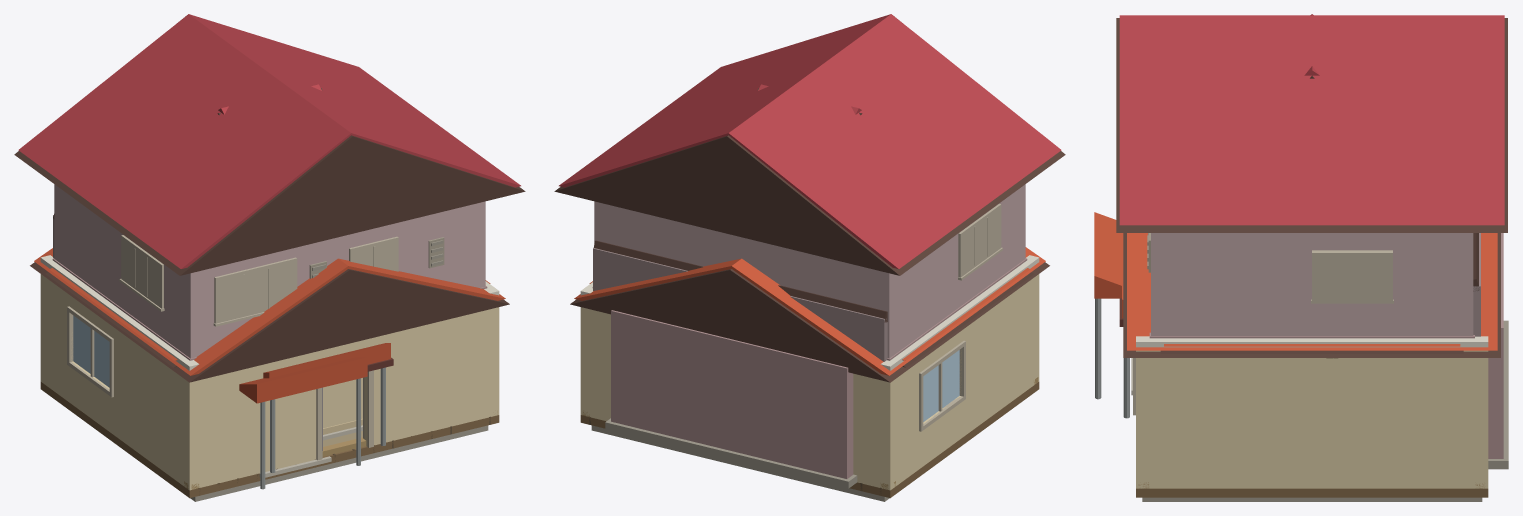
File: buildings.glb
The picture shows the model from 3 angles, left to right: view 1: azimuth 30°, elevation 25°; view 2: azimuth 150°, elevation 25°; view 3: azimuth 270°, elevation 25°; orthographic projection. The views are drawn at different scales.
Visible parts, largest first — view 1: HouseLarge, RoomInterior, HouseOpen, HouseSmall, PorchHouse; view 2: HouseLarge, PorchHouse, RoomInterior, HouseOpen, HouseSolar; view 3: HouseLarge, RoomInterior, HouseOpen, PorchHouse, HouseSolar, HouseSmall.
Boxes of the visible parts, <box> form: HouseLarge: <box>14,14,525,360</box>; RoomInterior: <box>40,255,499,498</box>; HouseOpen: <box>30,248,509,501</box>; HouseSmall: <box>263,343,393,472</box>; PorchHouse: <box>45,268,490,367</box>; HouseLarge: <box>554,14,1065,360</box>; PorchHouse: <box>589,268,1034,488</box>; RoomInterior: <box>580,255,1039,498</box>; HouseOpen: <box>570,247,1049,501</box>; HouseSolar: <box>593,240,887,361</box>; HouseLarge: <box>1116,14,1507,338</box>; RoomInterior: <box>1133,336,1488,497</box>; HouseOpen: <box>1094,212,1500,501</box>; PorchHouse: <box>1160,233,1508,469</box>; HouseSolar: <box>1473,233,1480,336</box>; HouseSmall: <box>1119,233,1129,418</box>.
Size of the model in its own units: 9.38 by 8.81 by 8.22.
